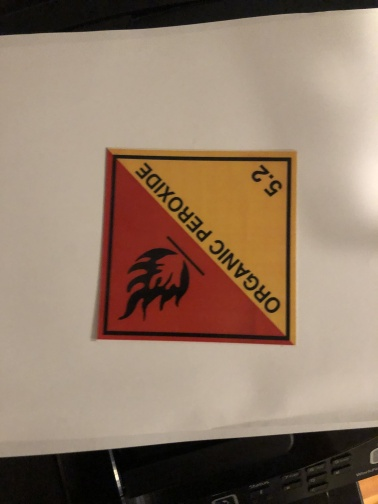OrganicPeroxide: (97, 148, 298, 346)
